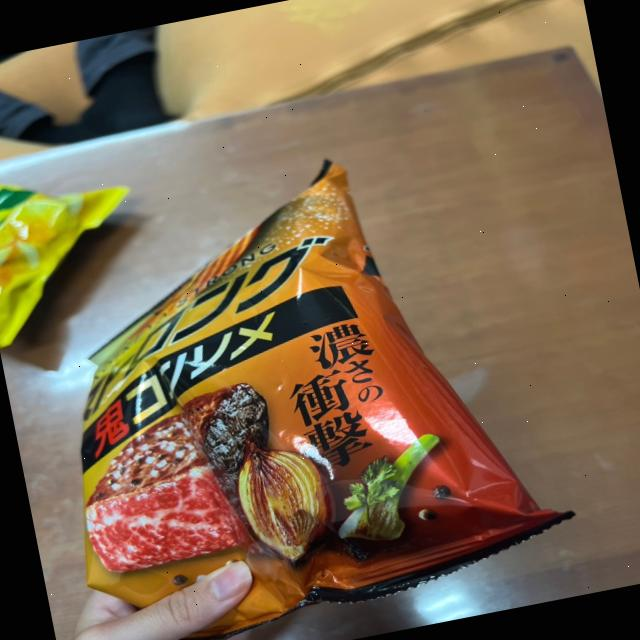chips-consome: (23, 140, 580, 608)
